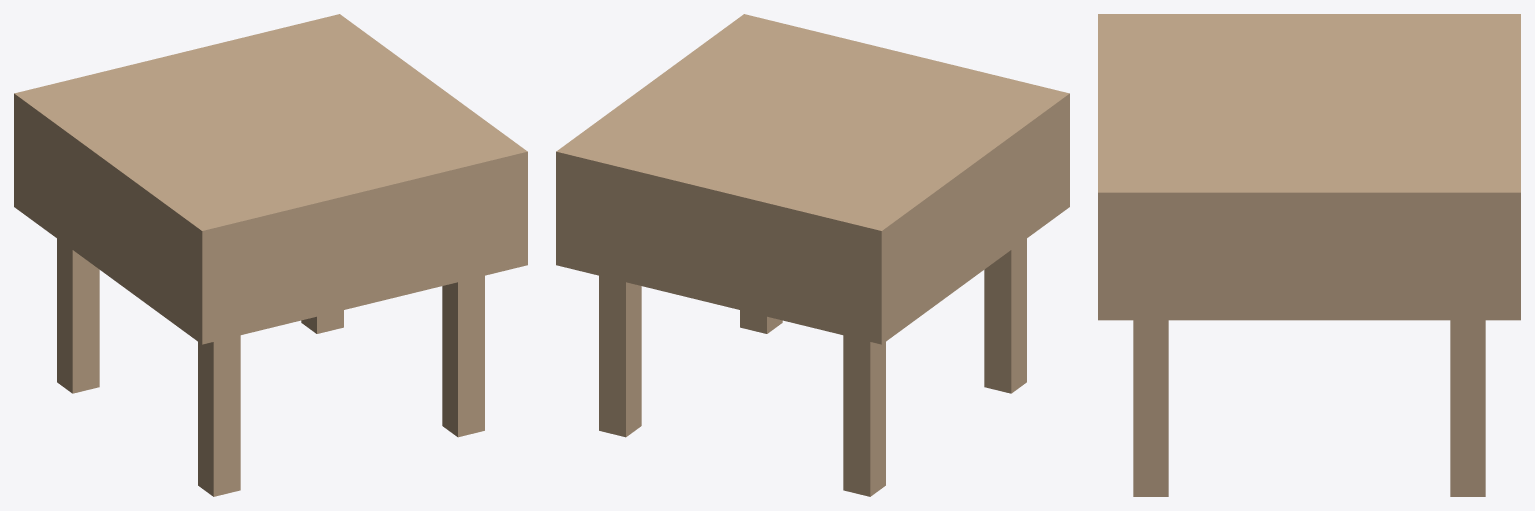
The model's file is table.dae.
3 renders of one model, left to right at view 1: azimuth 30°, elevation 25°; view 2: azimuth 150°, elevation 25°; view 3: azimuth 270°, elevation 25°, orthographic. The views are drawn at different scales.
Parts seen in each view (by area): view 1: table; view 2: table; view 3: table.
Boxes of the visible parts, x1,y1,x2,y2 form: table: [14, 14, 527, 496]; table: [556, 14, 1069, 496]; table: [1098, 14, 1520, 496].
Bounding box in the file's own units: 0.75 × 0.75 × 0.625.
